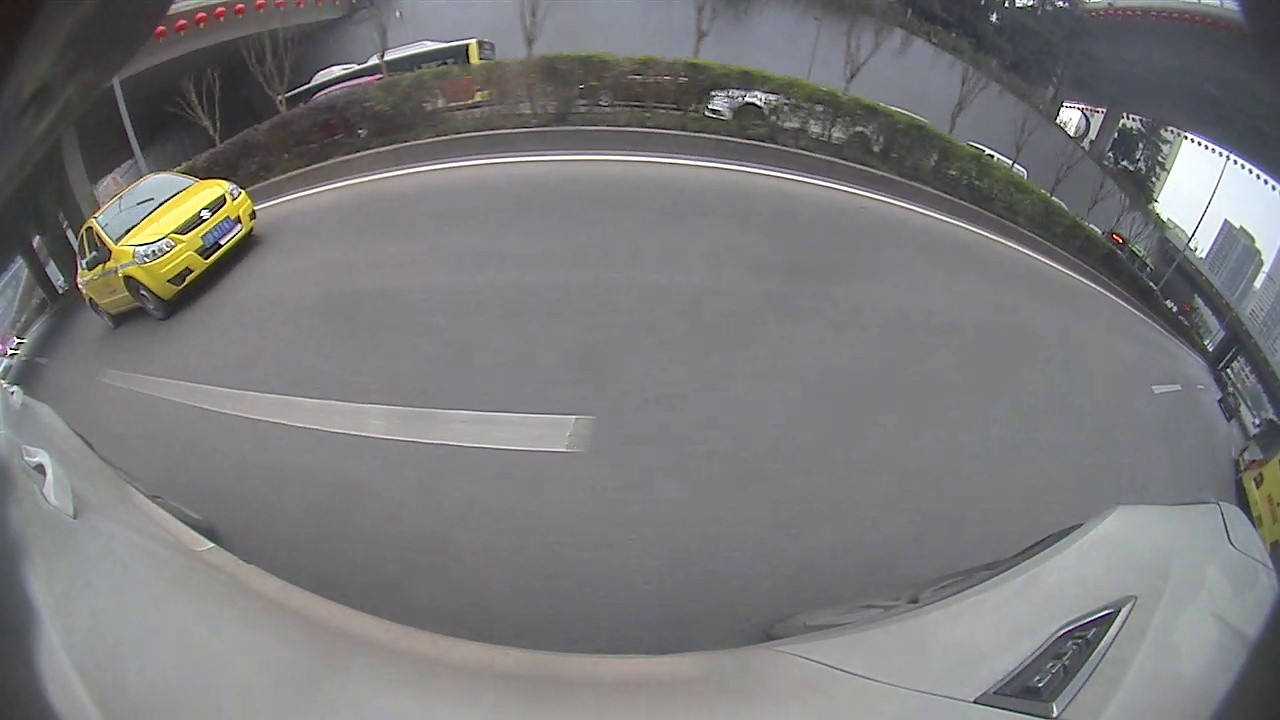bus: (1238, 420, 1279, 548)
car: (74, 170, 256, 330)
front: (134, 284, 170, 321)
rear: (93, 303, 120, 331)
